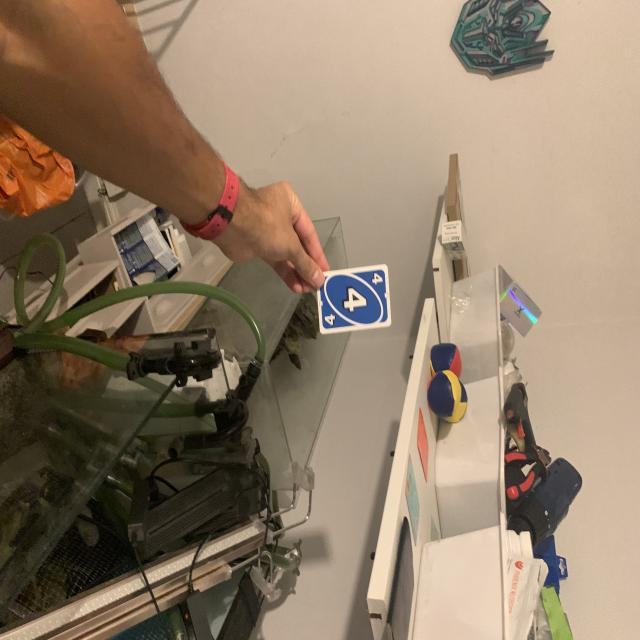lblue-4: (368, 270, 384, 288)
